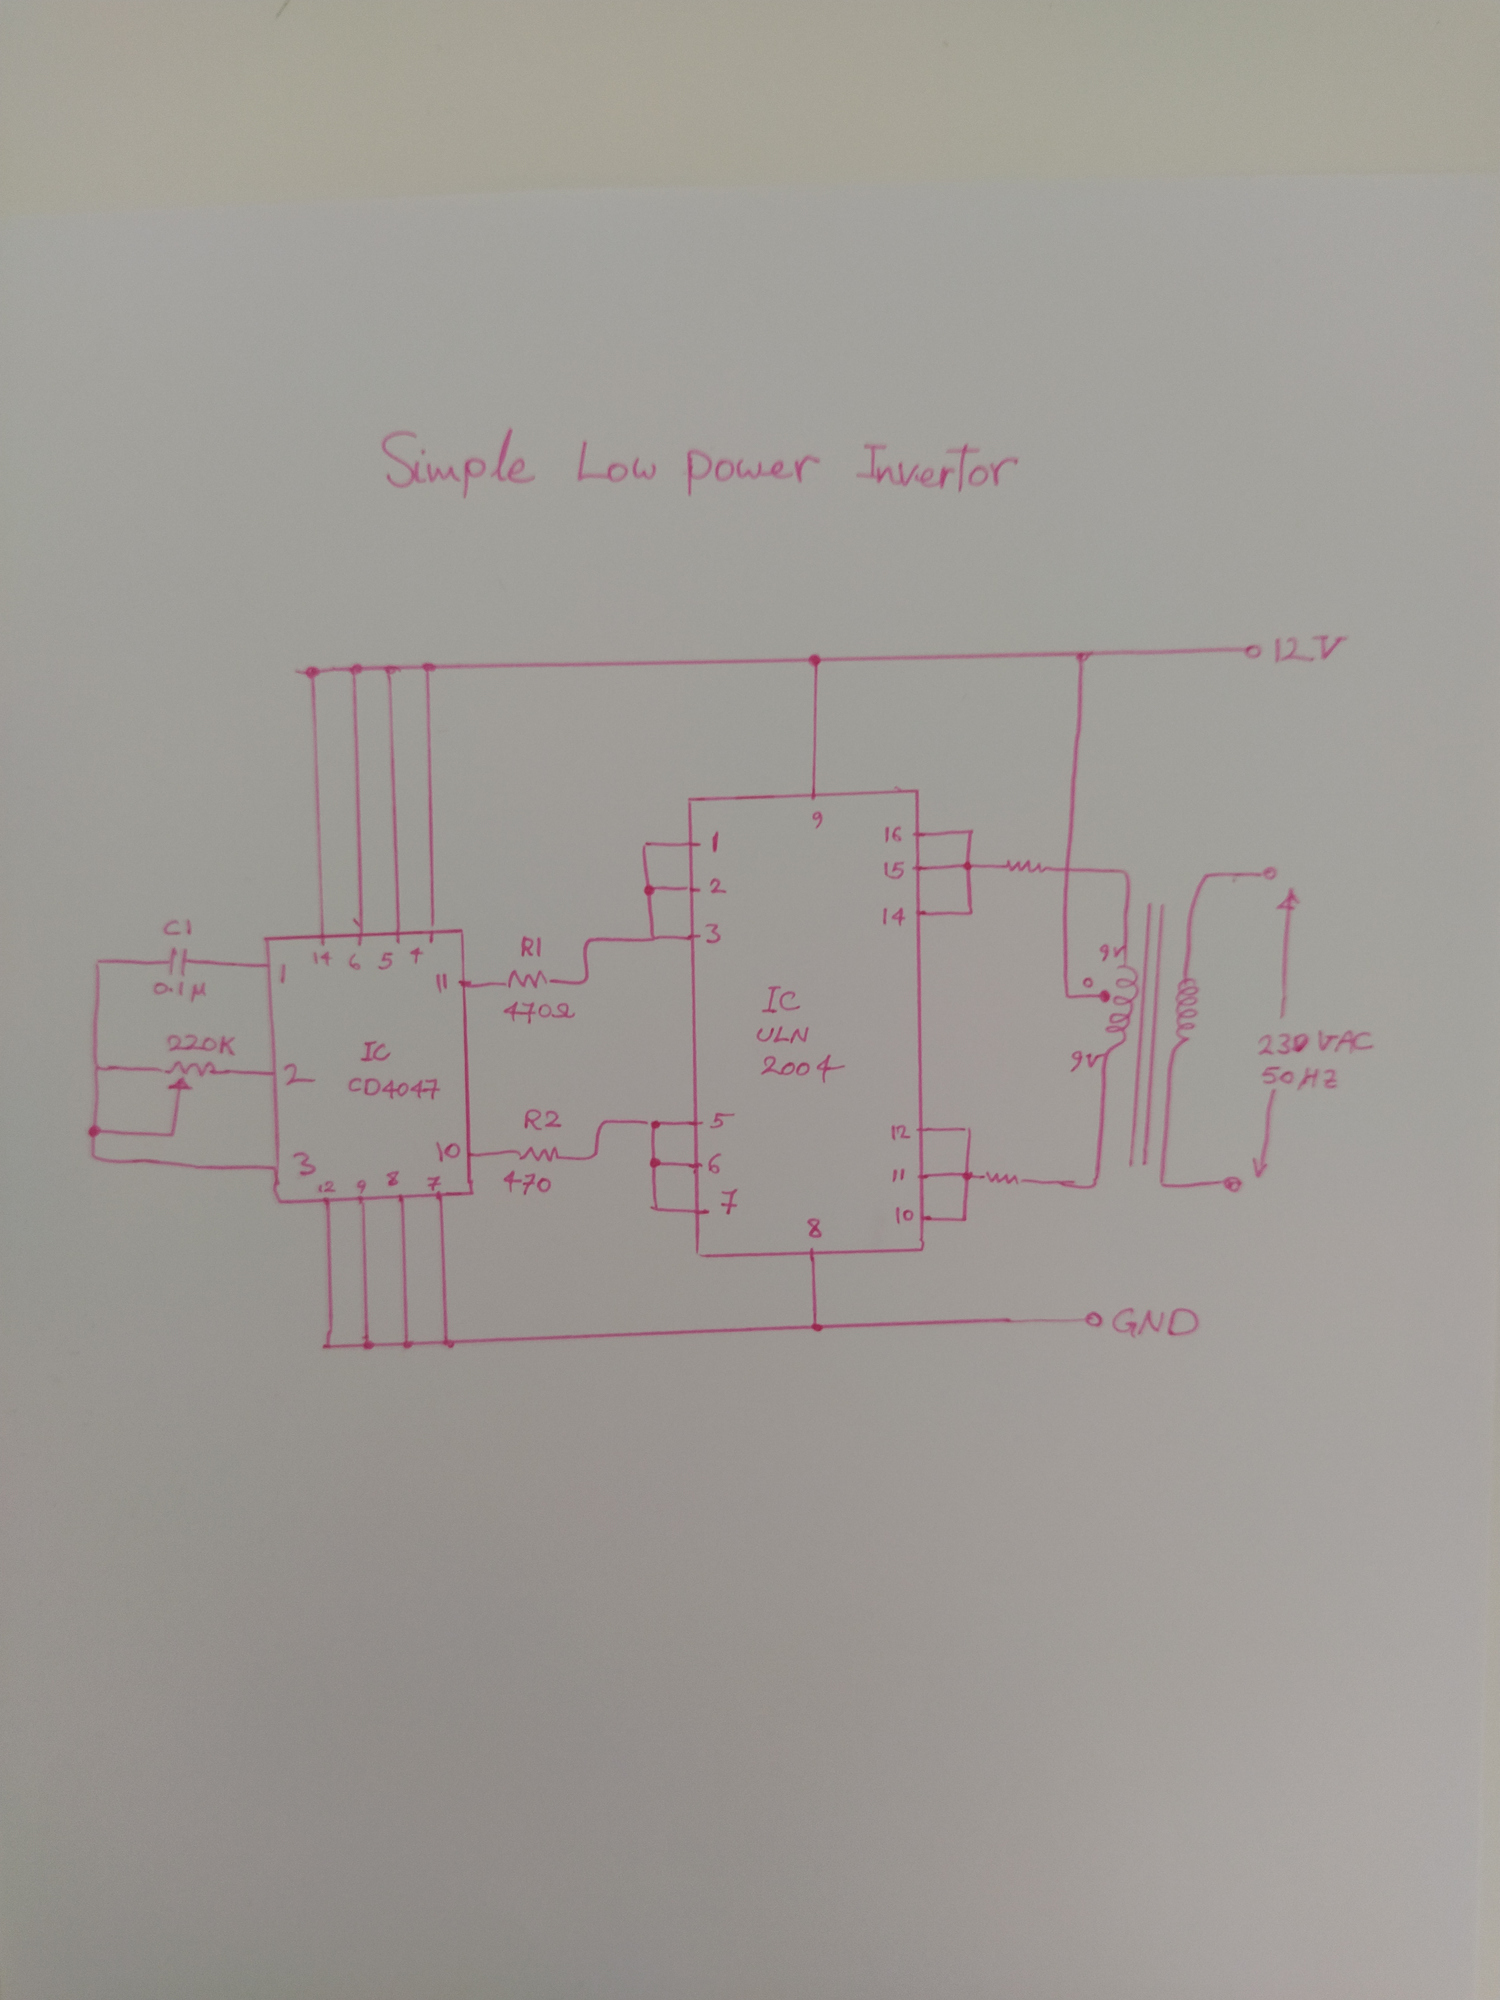capacitor.unpolarized: (165, 945, 192, 978)
crossover: (1060, 865, 1075, 876)
integrated_circuit: (684, 783, 933, 1263), (262, 918, 481, 1208)
junction: (291, 663, 321, 680), (1071, 647, 1095, 665), (381, 661, 403, 679), (359, 1335, 378, 1353), (643, 1117, 665, 1131), (347, 661, 366, 677), (419, 660, 440, 674), (85, 1123, 102, 1139), (400, 1337, 418, 1353), (807, 652, 822, 668), (641, 883, 659, 898), (1117, 866, 1134, 880), (90, 956, 104, 972), (320, 1339, 336, 1353), (648, 1156, 663, 1170), (1199, 869, 1215, 883), (1060, 989, 1075, 1005), (441, 1337, 459, 1350), (808, 1321, 826, 1334), (958, 1169, 975, 1181), (1084, 1178, 1101, 1191), (596, 1117, 610, 1131), (1155, 1178, 1169, 1192), (87, 1151, 102, 1164), (960, 860, 975, 872), (90, 1061, 104, 1074), (640, 838, 652, 852), (646, 931, 660, 943), (581, 934, 596, 946), (580, 973, 592, 987), (964, 906, 978, 918), (648, 1203, 662, 1214), (956, 1213, 971, 1224), (964, 827, 977, 838), (589, 1150, 600, 1162), (165, 1129, 178, 1139), (961, 1124, 974, 1134)
resistor: (503, 969, 551, 991), (515, 1143, 562, 1164), (1004, 857, 1049, 876), (982, 1170, 1026, 1187)
resistor.adjustable: (159, 1058, 221, 1093)
terminal: (1220, 1173, 1245, 1195), (1242, 643, 1264, 661), (1082, 1309, 1105, 1328), (1259, 865, 1279, 882)
text: (380, 422, 1023, 502), (1254, 1028, 1377, 1057), (1109, 1304, 1201, 1339), (759, 1052, 848, 1085), (347, 1076, 444, 1102), (1272, 631, 1349, 665), (1259, 1063, 1339, 1093), (501, 998, 577, 1027), (162, 1031, 238, 1058), (501, 1169, 555, 1198), (150, 980, 210, 1005), (759, 983, 804, 1016), (755, 1024, 811, 1047), (522, 1106, 564, 1132), (280, 1061, 318, 1087), (358, 1039, 394, 1065), (1068, 1047, 1105, 1072), (290, 1150, 318, 1178), (161, 917, 195, 939), (518, 932, 545, 961), (433, 1139, 463, 1164), (879, 902, 909, 928), (718, 1187, 741, 1217), (1097, 942, 1125, 964), (881, 858, 906, 882), (882, 820, 906, 846), (701, 920, 723, 946), (887, 1121, 914, 1143), (707, 1110, 736, 1131), (804, 1216, 826, 1241), (706, 876, 730, 898), (892, 1205, 915, 1227), (433, 972, 454, 995), (276, 962, 295, 987), (706, 1151, 725, 1176), (345, 951, 366, 973), (310, 950, 334, 969), (706, 830, 723, 855), (377, 950, 395, 972), (808, 808, 827, 830), (889, 1165, 911, 1184), (315, 1180, 339, 1195), (408, 945, 425, 965), (384, 1169, 402, 1187), (425, 1173, 443, 1192), (353, 1176, 369, 1195), (1081, 973, 1093, 991)
transformer: (1090, 901, 1201, 1169)
